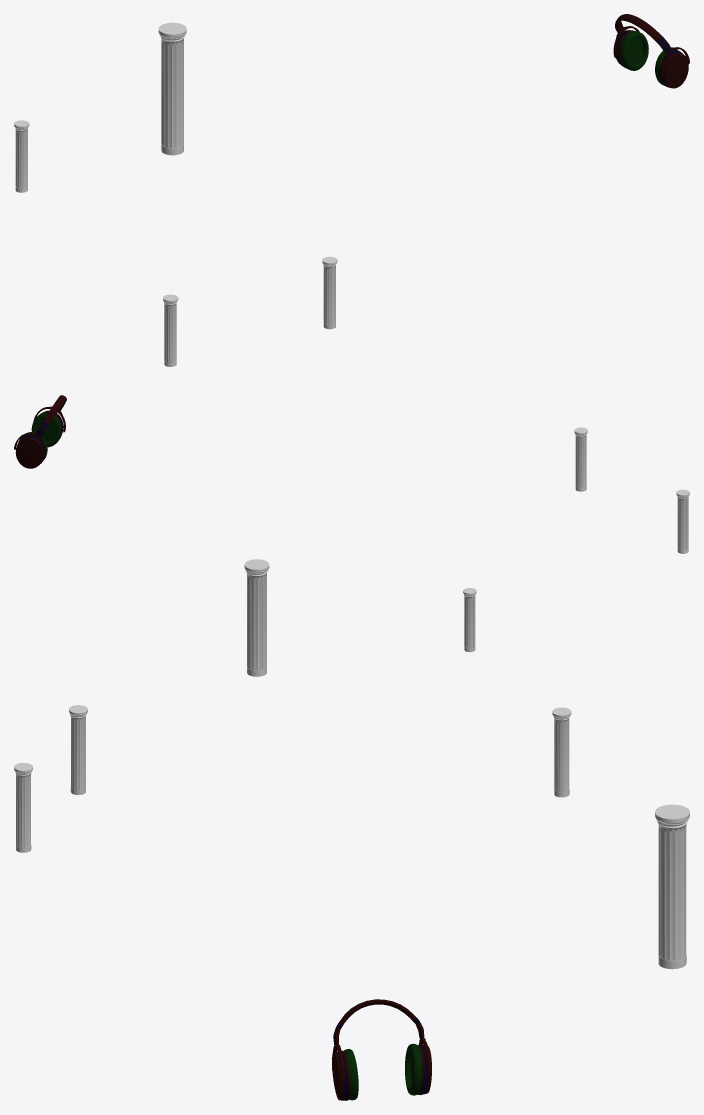
3 views of the same model, one above another, from view 1: azimuth 30°, elevation 25°; view 2: azimuth 150°, elevation 25°; view 3: azimuth 270°, elevation 25° (orthographic). The views are drawn at different scales.
Visible parts, largest first — view 1: Column_100, HeadSet, Column_103, Column_101, Column_102; view 2: Column_100, HeadSet, Column_103, Column_101, Column_102; view 3: Column_100, HeadSet, Column_102, Column_101, Column_103.
Part boxes in pixels (x1,y1,x2,y2): Column_100: [158, 22, 186, 155]; HeadSet: [613, 14, 689, 88]; Column_103: [322, 256, 337, 329]; Column_101: [163, 294, 178, 366]; Column_102: [14, 120, 29, 192]; Column_100: [244, 559, 269, 676]; HeadSet: [14, 395, 66, 468]; Column_103: [574, 427, 587, 491]; Column_101: [676, 489, 689, 553]; Column_102: [463, 588, 476, 652]; Column_100: [655, 804, 689, 969]; HeadSet: [332, 999, 431, 1100]; Column_102: [552, 707, 571, 797]; Column_101: [69, 705, 87, 794]; Column_103: [14, 763, 32, 852].
Size of what is drawn, in the model's own units: 39.13 by 8.14 by 29.18.
